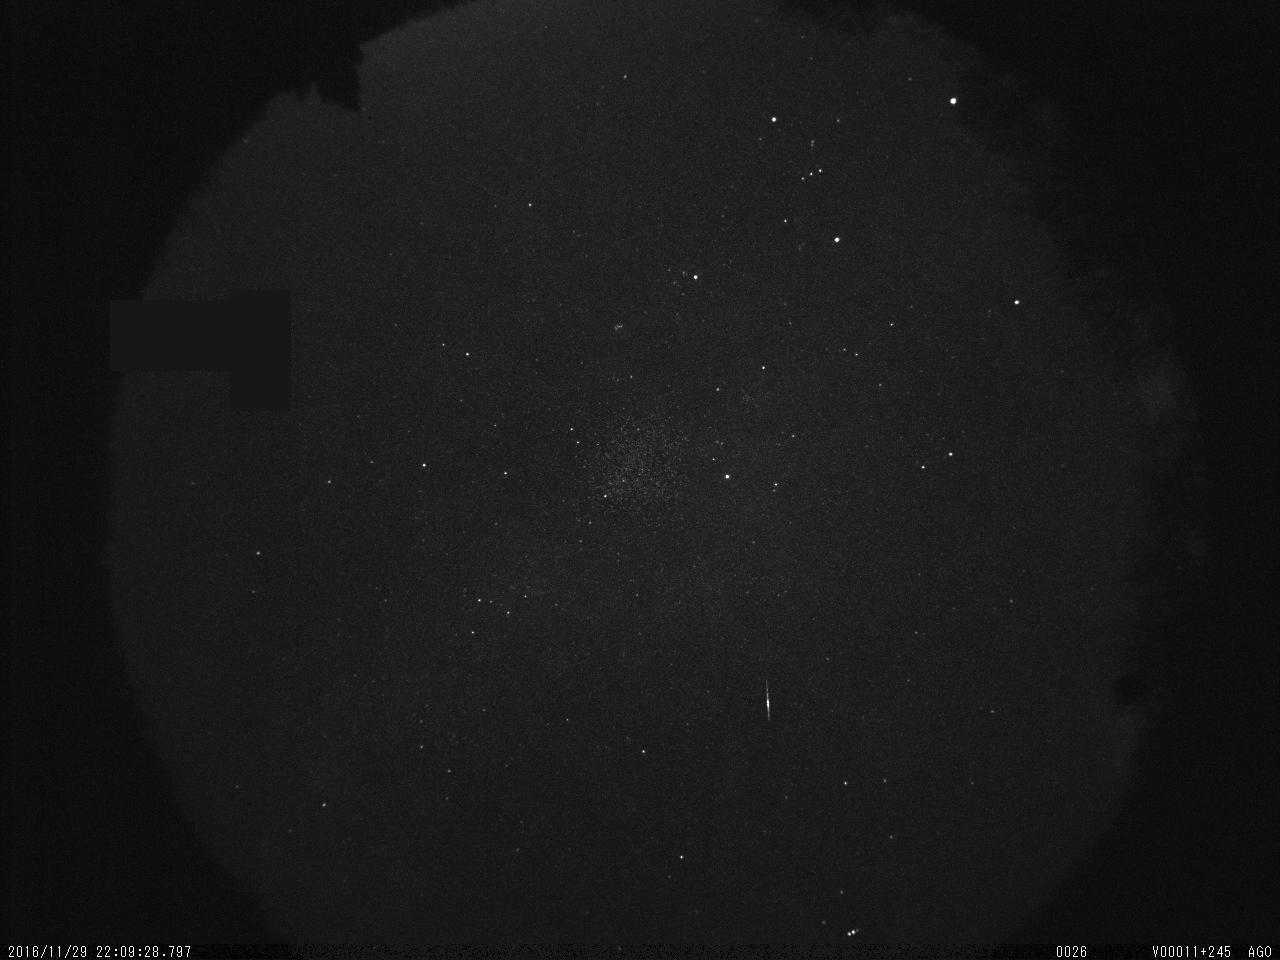meteor: (758, 676, 785, 727)
